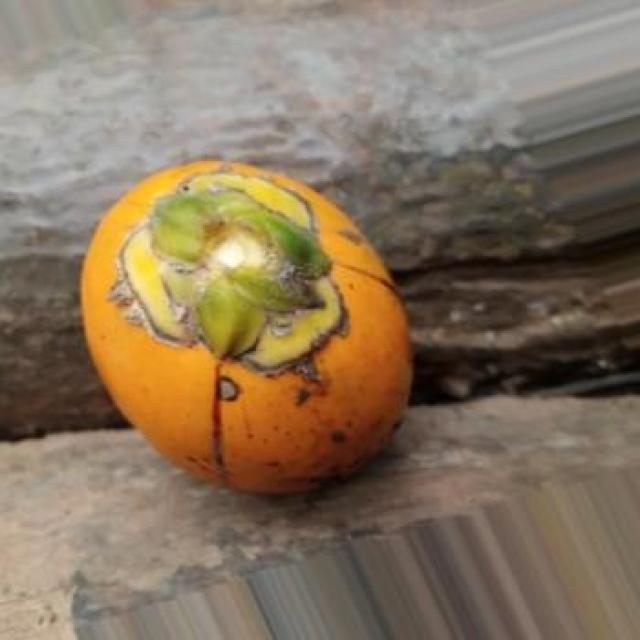good: (80, 161, 411, 496)
